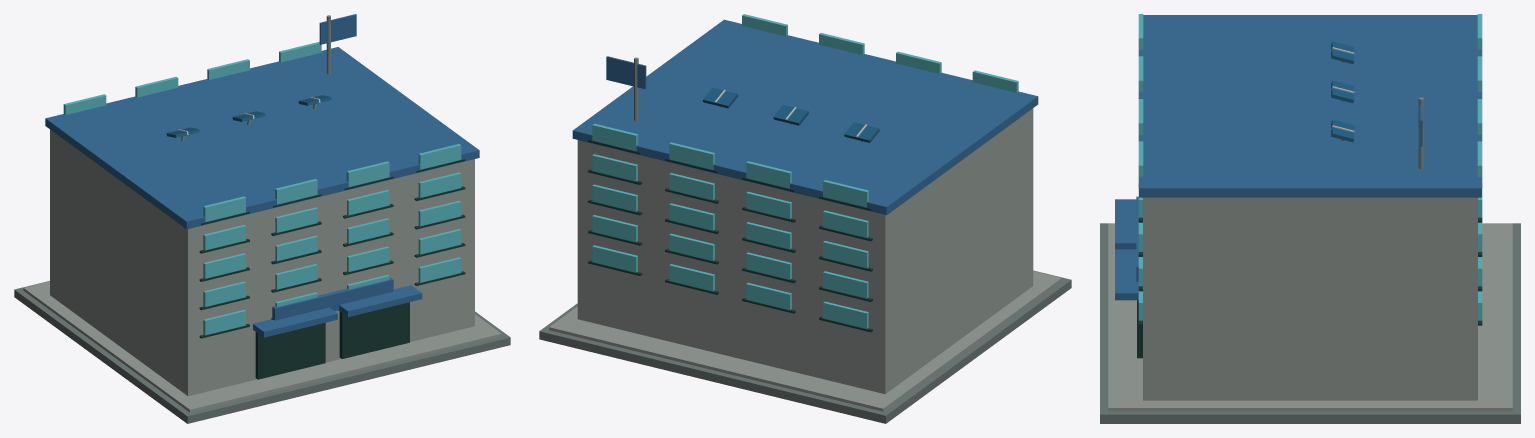
The model's file is police_lv3.glb.
3 renders of one model, left to right at view 1: azimuth 30°, elevation 25°; view 2: azimuth 150°, elevation 25°; view 3: azimuth 270°, elevation 25°, orthographic. The views are drawn at different scales.
Parts seen in each view (by area): view 1: rough, glossy, metallic; view 2: rough, glossy, metallic; view 3: rough, glossy, metallic.
Part boxes in pixels (x1=…): rough: x1=14, y1=14, x2=510, y2=423; glossy: x1=63, y1=41, x2=461, y2=335; metallic: x1=166, y1=15, x2=331, y2=141; rough: x1=539, y1=19, x2=1071, y2=423; glossy: x1=592, y1=14, x2=1018, y2=328; metallic: x1=634, y1=57, x2=879, y2=142; rough: x1=1100, y1=15, x2=1520, y2=423; glossy: x1=1138, y1=14, x2=1482, y2=320; metallic: x1=1331, y1=41, x2=1424, y2=168.
Size of the model in its own units: 9.8 by 7.07 by 9.1.
